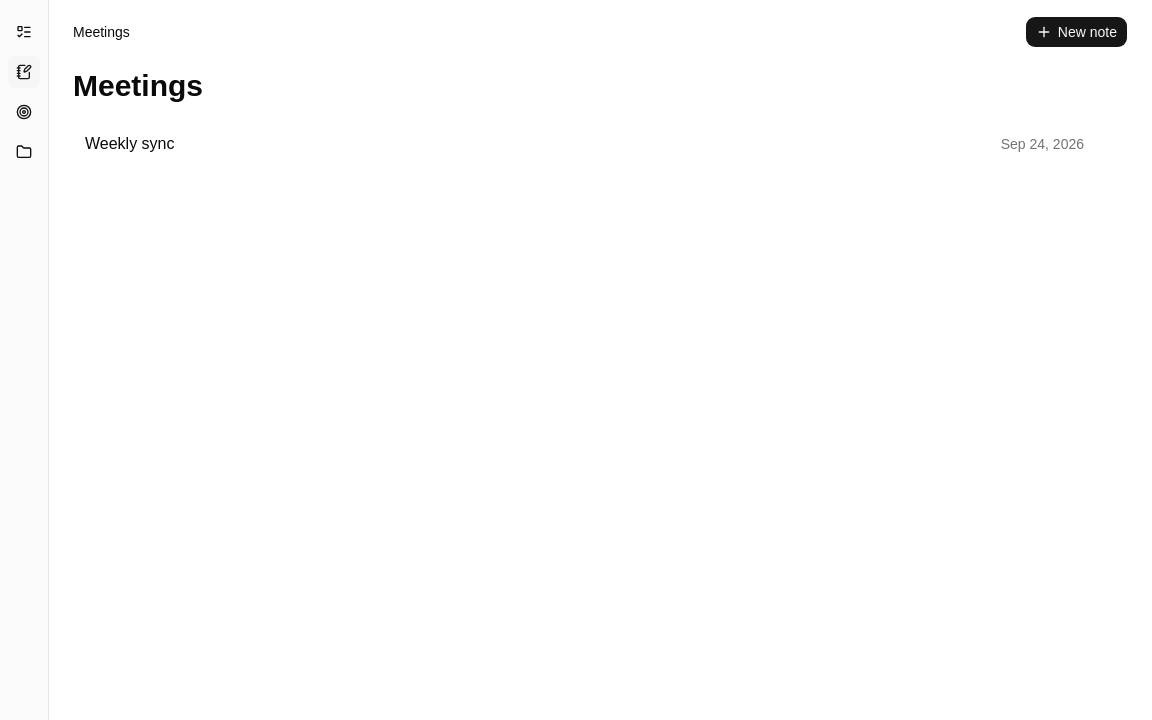
Test case: Action items panel › wraps a long item text so that the whole text is visible
The image size is (1152, 720).
Click the link "Weekly sync Sep 24, 2026".
click(130, 144)  # box [85,135,1084,152]
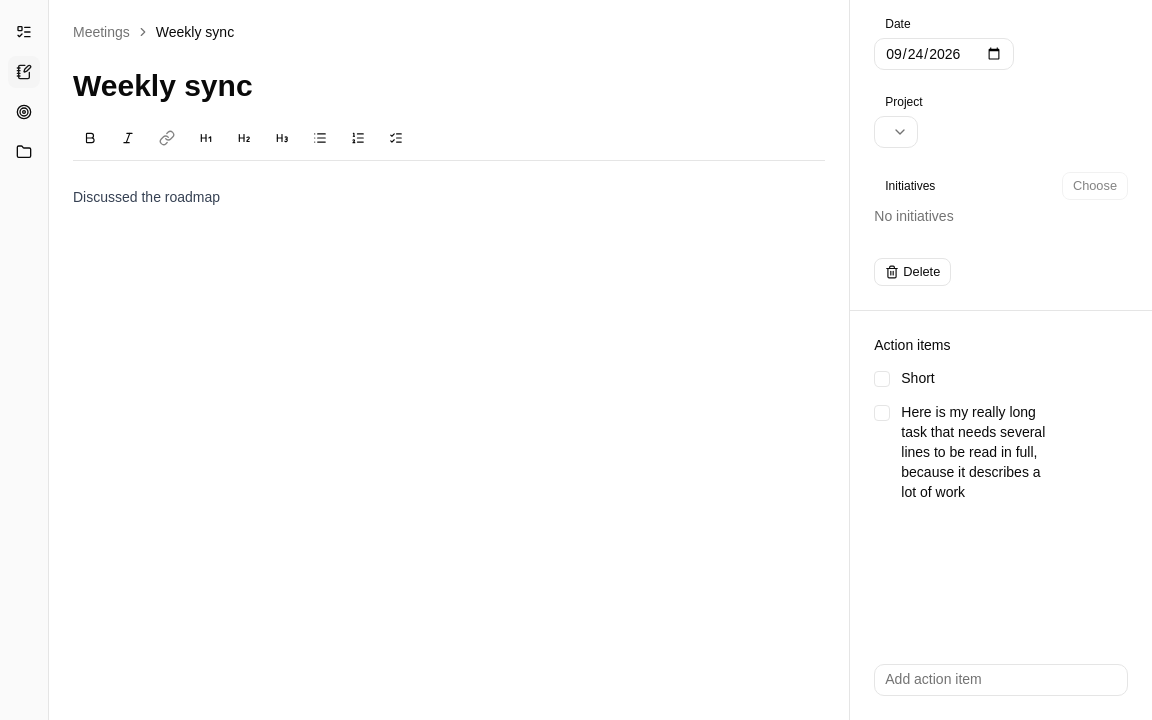
Check: the field named "Notes" is shown, box [73,189,220,205]
